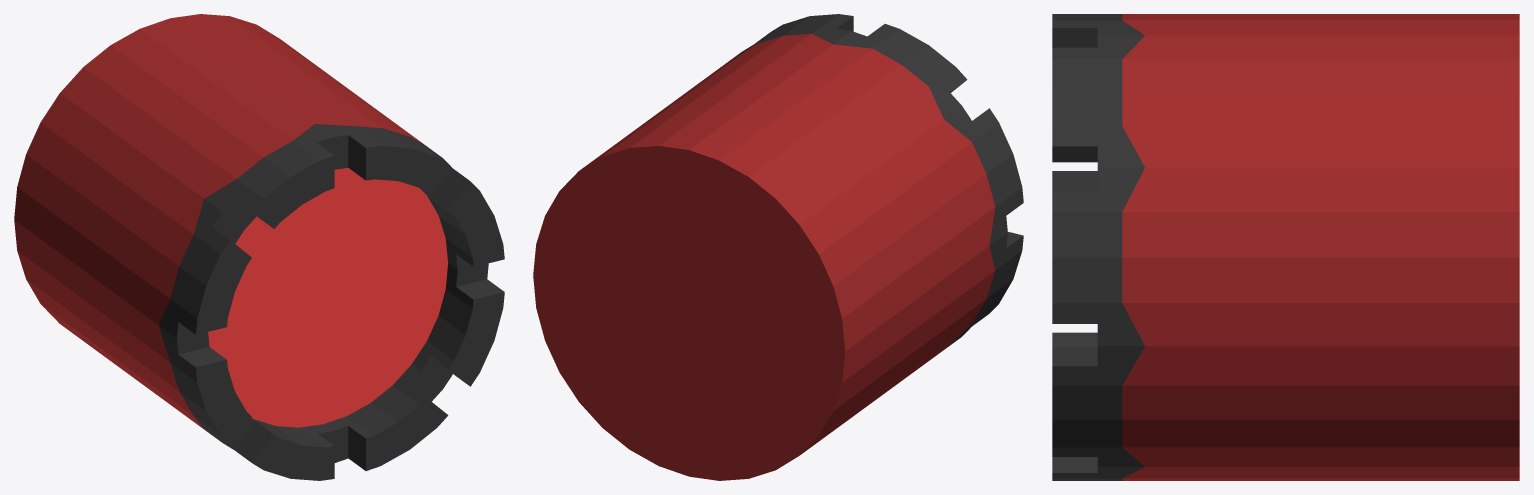
The model's file is lighthouse.glb.
3 renders of one model, left to right at view 1: azimuth 30°, elevation 25°; view 2: azimuth 150°, elevation 25°; view 3: azimuth 270°, elevation 25°, orthographic. The views are drawn at different scales.
Parts seen in each view (by area): view 1: Cylinder; view 2: Cylinder; view 3: Cylinder.
Boxes of the visible parts, x1=… form: Cylinder: x1=14, y1=14, x2=504, y2=480; Cylinder: x1=533, y1=14, x2=1023, y2=480; Cylinder: x1=1052, y1=14, x2=1519, y2=480.
Size of the model in its own units: 2 by 2 by 2.
